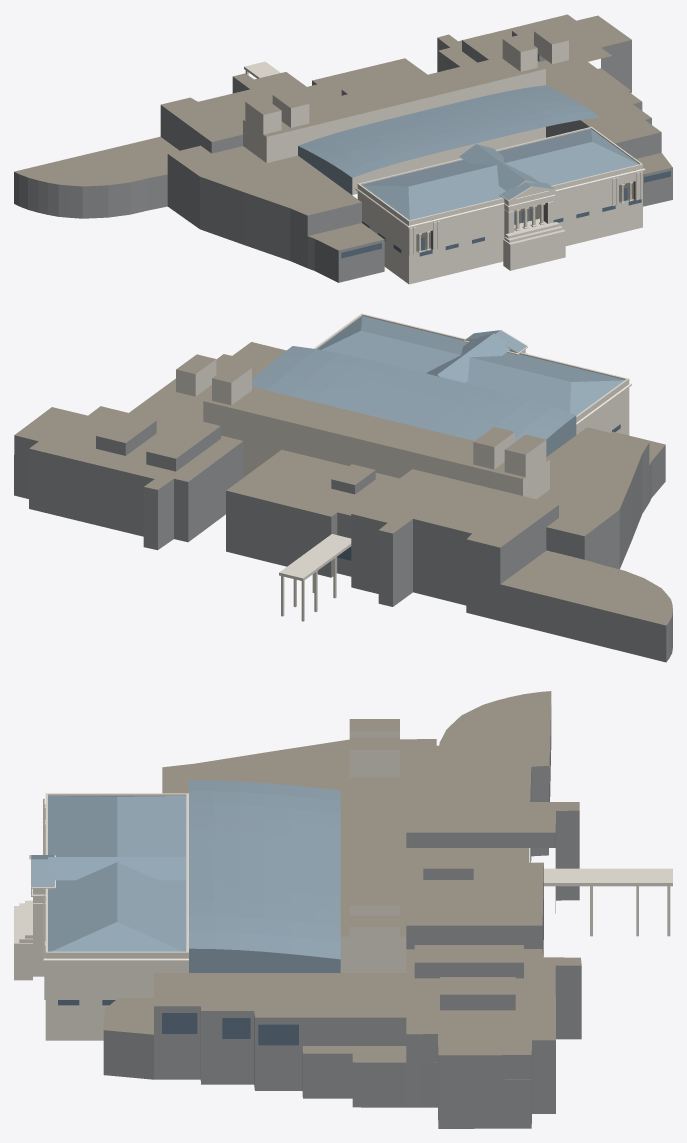
File: cle-museum-of-art.glb
3 renders of one model, top to bottom at view 1: azimuth 30°, elevation 25°; view 2: azimuth 150°, elevation 25°; view 3: azimuth 270°, elevation 25°, orthographic. The views are drawn at different scales.
Parts seen in each view (by area): view 1: Cleveland Museum of Art; view 2: Cleveland Museum of Art; view 3: Cleveland Museum of Art.
Boxes of the visible parts, left/top/right/bottom form: Cleveland Museum of Art: left=14, top=14, right=672, bottom=284; Cleveland Museum of Art: left=14, top=313, right=672, bottom=662; Cleveland Museum of Art: left=14, top=691, right=672, bottom=1128.
Size of the model in its own units: 221 by 36.1 by 157.
